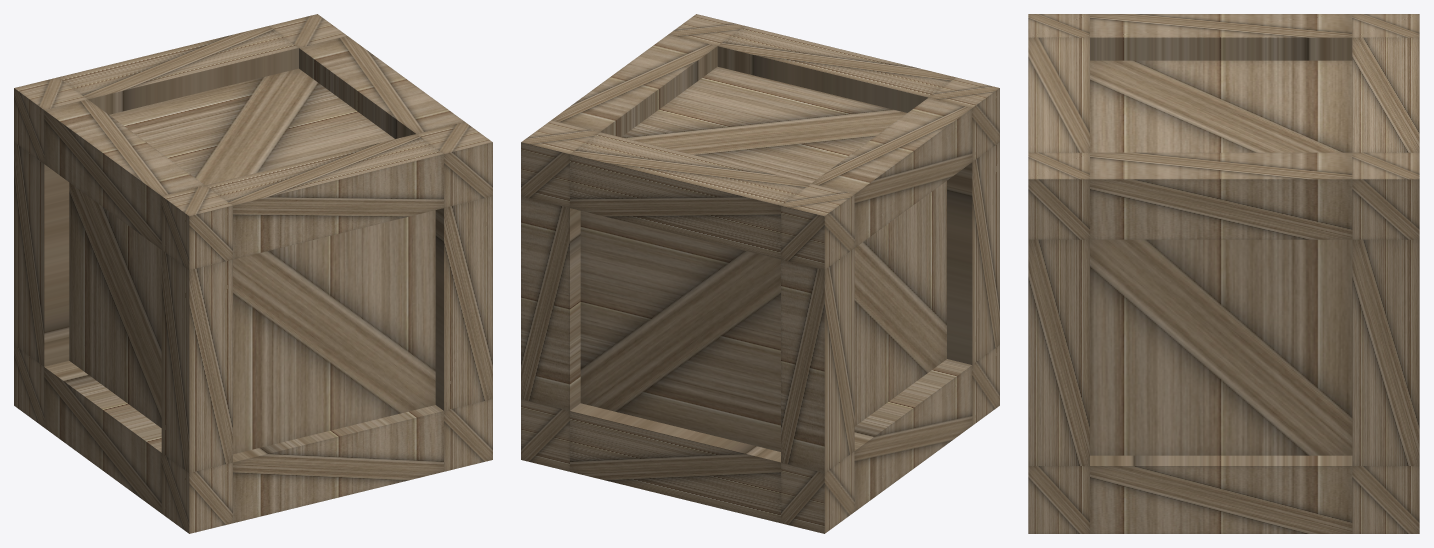
3 views of the same model, side by side, from view 1: azimuth 30°, elevation 25°; view 2: azimuth 150°, elevation 25°; view 3: azimuth 270°, elevation 25° (orthographic). The views are drawn at different scales.
Visible parts, largest first — view 1: Cube; view 2: Cube; view 3: Cube.
Part boxes in pixels (x1,y1,x2,y2): Cube: (14,14,492,533); Cube: (521,14,999,533); Cube: (1028,14,1419,533).
Size of the model in its own units: 2.84 by 2.84 by 2.84.
1 material, 1 textured.
